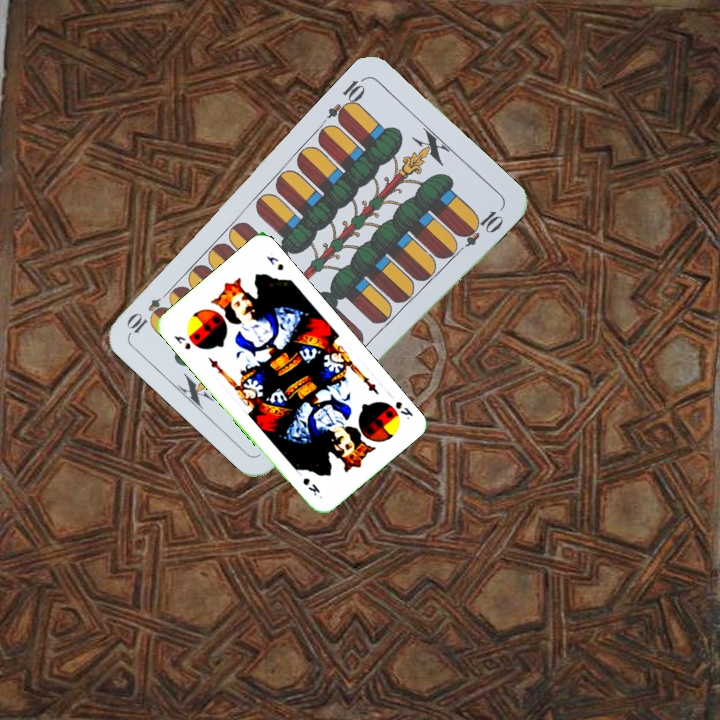E10: (323, 73, 369, 127)
SK: (391, 397, 416, 422), (170, 331, 194, 352)
